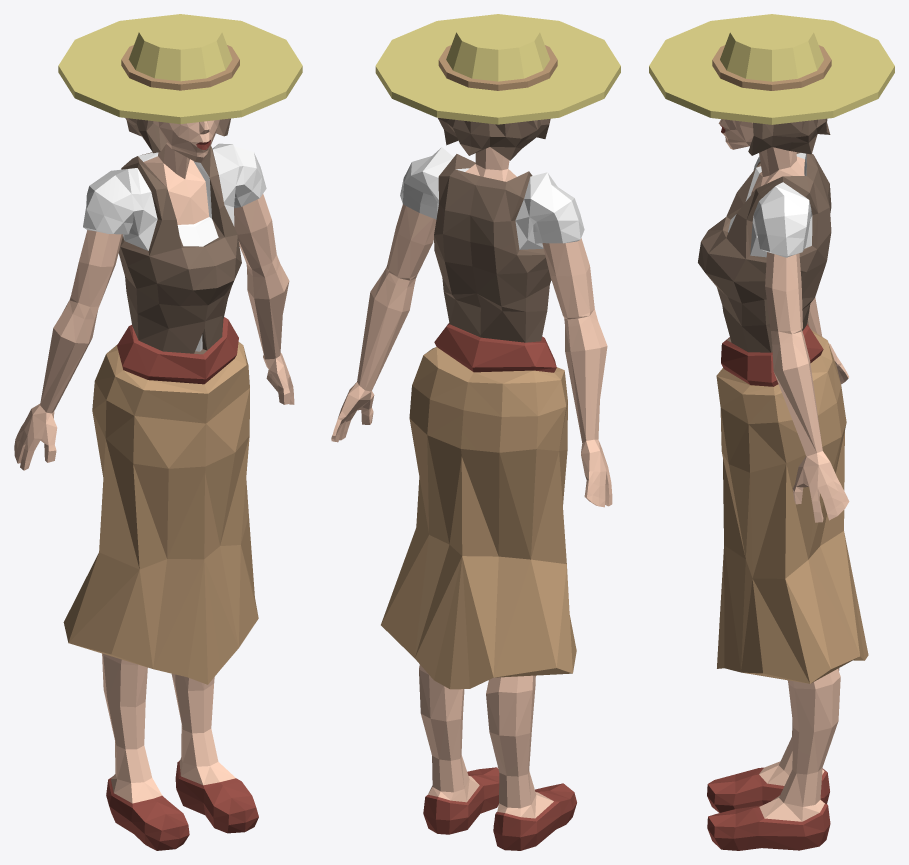
The model's file is peasant_6.glb.
3 renders of one model, left to right at view 1: azimuth 30°, elevation 25°; view 2: azimuth 150°, elevation 25°; view 3: azimuth 270°, elevation 25°, orthographic.
Parts seen in each view (by area): view 1: peasant_6.001; view 2: peasant_6.001; view 3: peasant_6.001.
Part boxes in pixels (<box>): peasant_6.001: <box>14,14,302,850</box>; peasant_6.001: <box>331,14,620,850</box>; peasant_6.001: <box>649,14,894,850</box>.
Bounding box in the file's own units: 0.6093 × 1.7 × 0.4761.
Materials: 1 (1 with a texture image).
